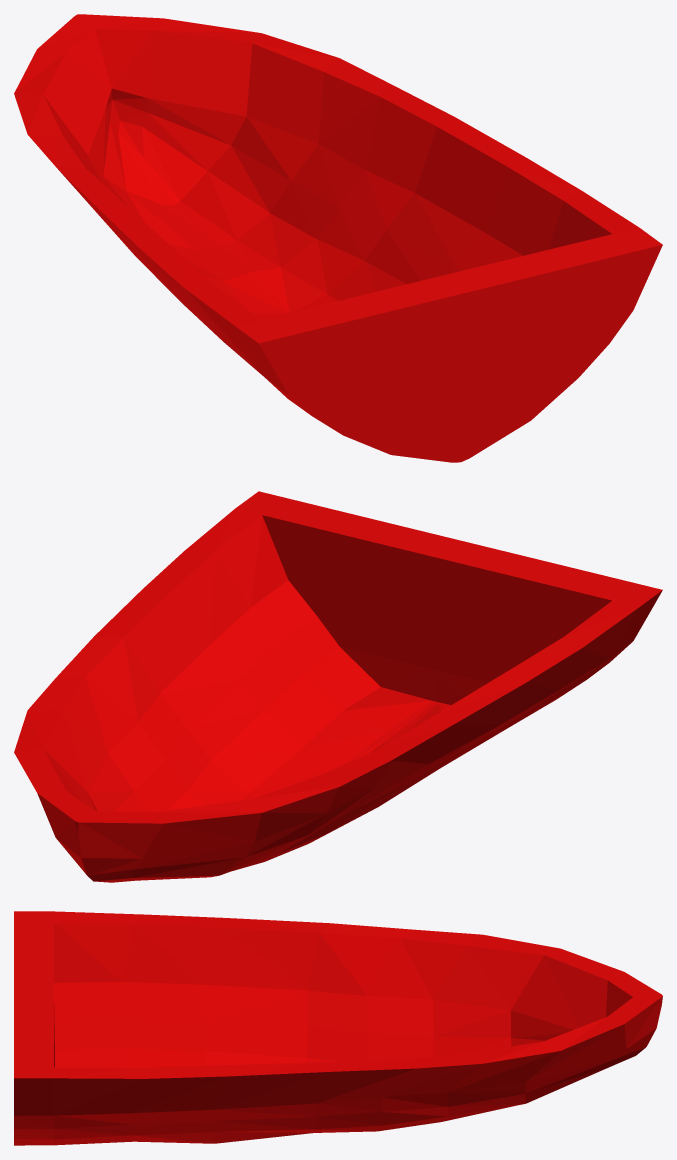
Rendered from boat 1.fbx.
The picture shows the model from 3 angles, top to bottom: view 1: azimuth 30°, elevation 25°; view 2: azimuth 150°, elevation 25°; view 3: azimuth 270°, elevation 25°; orthographic projection. The views are drawn at different scales.
Parts seen in each view (by area): view 1: pCube1; view 2: pCube1; view 3: pCube1.
Part boxes in pixels (bbox=[...]): pCube1: bbox=[14, 14, 662, 462]; pCube1: bbox=[14, 491, 662, 882]; pCube1: bbox=[14, 911, 662, 1145].
Bounding box in the file's own units: 0.0793 × 0.0316 × 0.1302.
